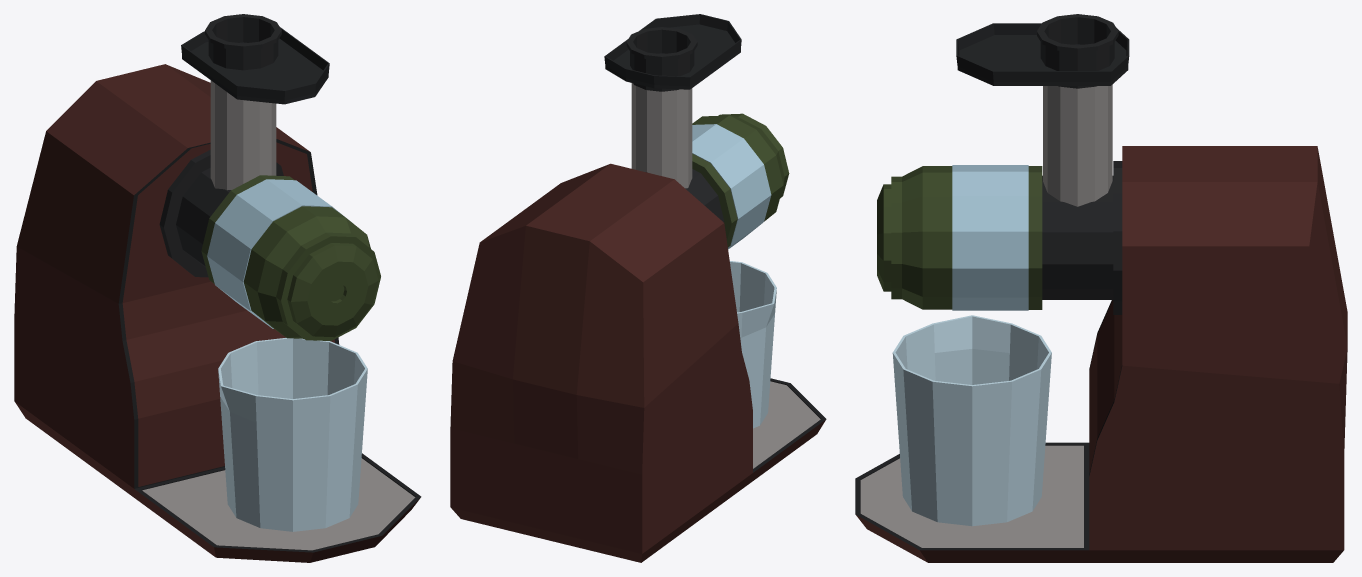
File: juicer_01_C.gltf
3 views of the same model, side by side, from view 1: azimuth 30°, elevation 25°; view 2: azimuth 150°, elevation 25°; view 3: azimuth 270°, elevation 25° (orthographic). The views are drawn at different scales.
Parts seen in each view (by area): view 1: juicer_01_C, Glassforjuicer_01_C; view 2: juicer_01_C, Glassforjuicer_01_C; view 3: juicer_01_C, Glassforjuicer_01_C.
Part boxes in pixels (x1,y1,x2,y2): juicer_01_C: [14, 14, 421, 562]; Glassforjuicer_01_C: [218, 338, 367, 531]; juicer_01_C: [450, 14, 826, 562]; Glassforjuicer_01_C: [729, 261, 776, 428]; juicer_01_C: [855, 14, 1347, 562]; Glassforjuicer_01_C: [892, 315, 1051, 526].
Size of the model in its own units: 0.228 by 0.4748 by 0.4404.
Materials: 1 (1 with a texture image).
